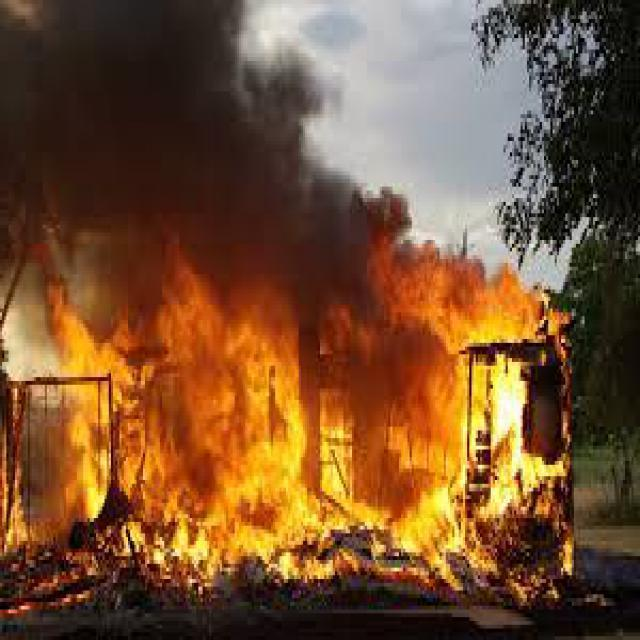Fire: (2, 248, 590, 594)
Smoke: (0, 12, 330, 236)
